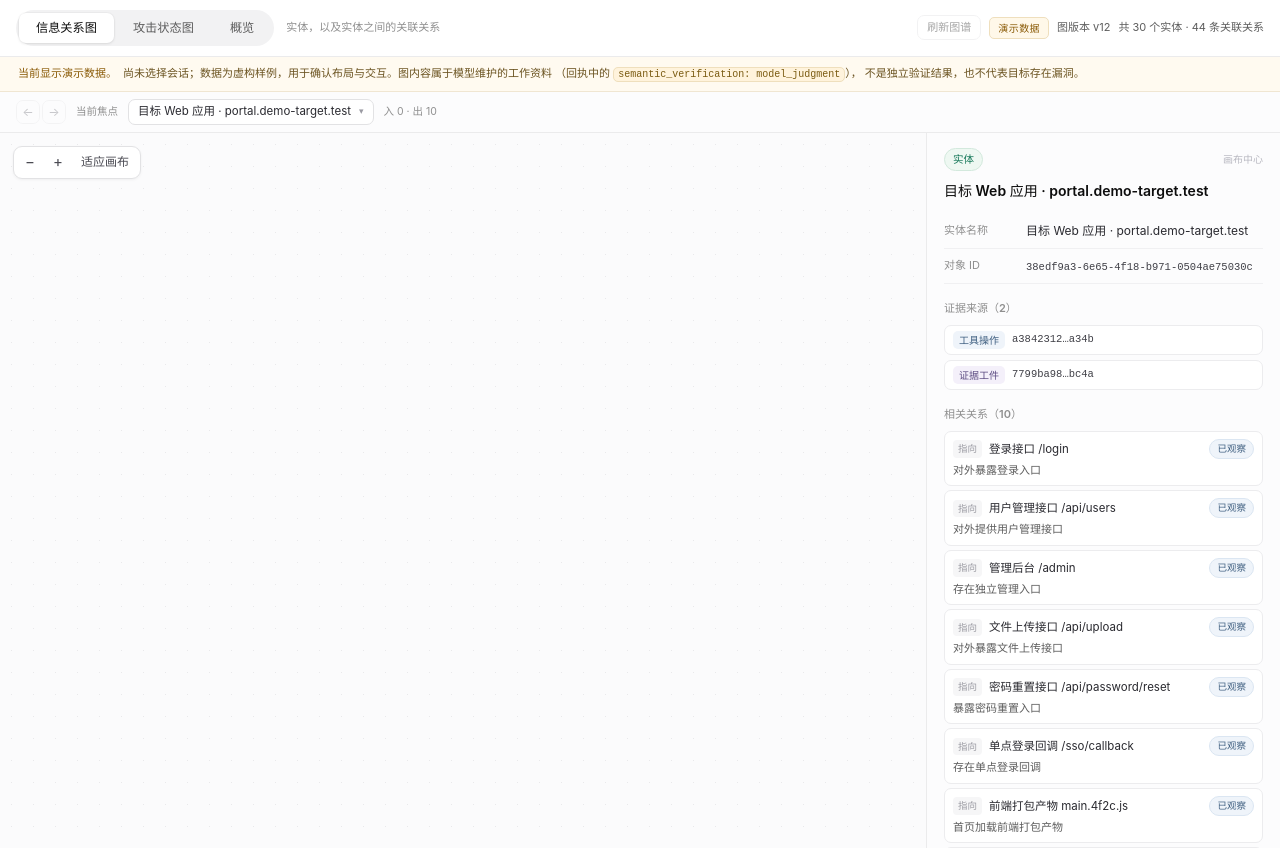
Test: 点击相关关系后选中该连线，详情切换成关系字段，并能退回焦点
Click the button with class "gpicker-btn" at [251, 112], box top-left (128, 99), bottom-right (374, 125)
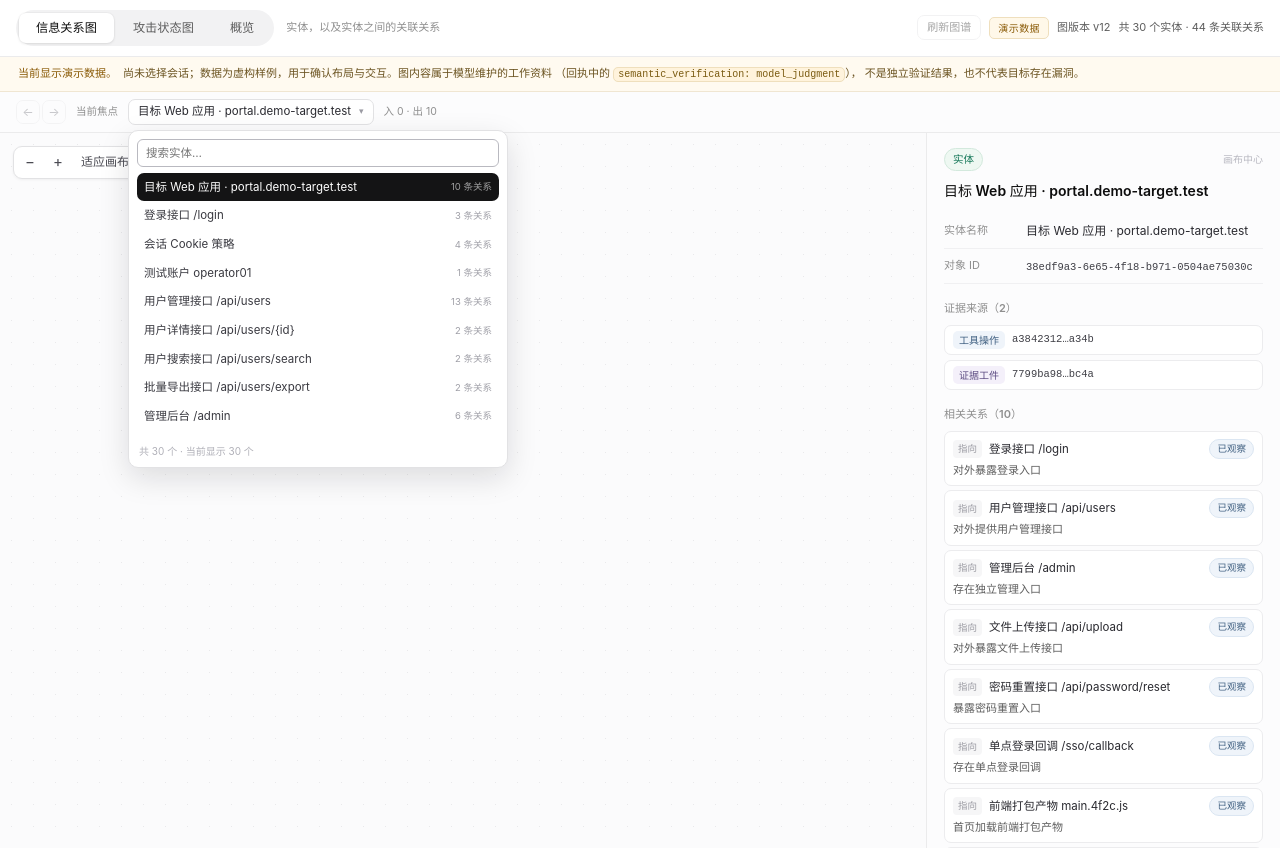
expect the dialog with class "gpicker-pop" is shown: met, box top-left (128, 130), bottom-right (508, 468)
expect the button with class "gpicker-item" showing "会话 Cookie 策略 4 条关系" is shown: met
Click the button with class "gpicker-item" showing "会话 Cookie 策略 4 条关系" at [189, 244], box top-left (137, 230), bottom-right (499, 259)
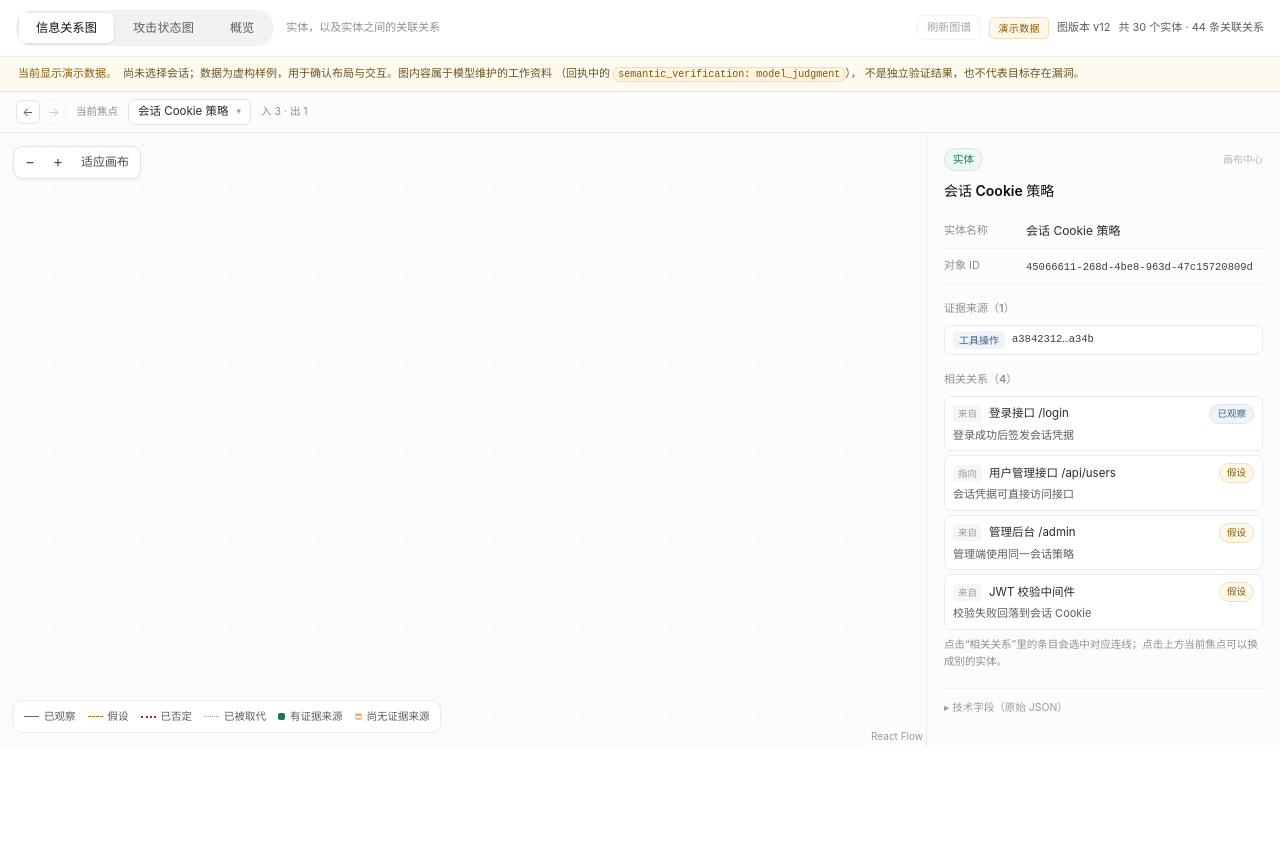
expect the element with class "gside" is shown: met, box top-left (926, 133), bottom-right (1279, 746)
expect the button "指向 用户管理接口 /api/users 假设 会话凭据可直接访问接口" is shown: met
Click the button "指向 用户管理接口 /api/users 假设 会话凭据可直接访问接口" at [1052, 473], box top-left (944, 455), bottom-right (1263, 511)
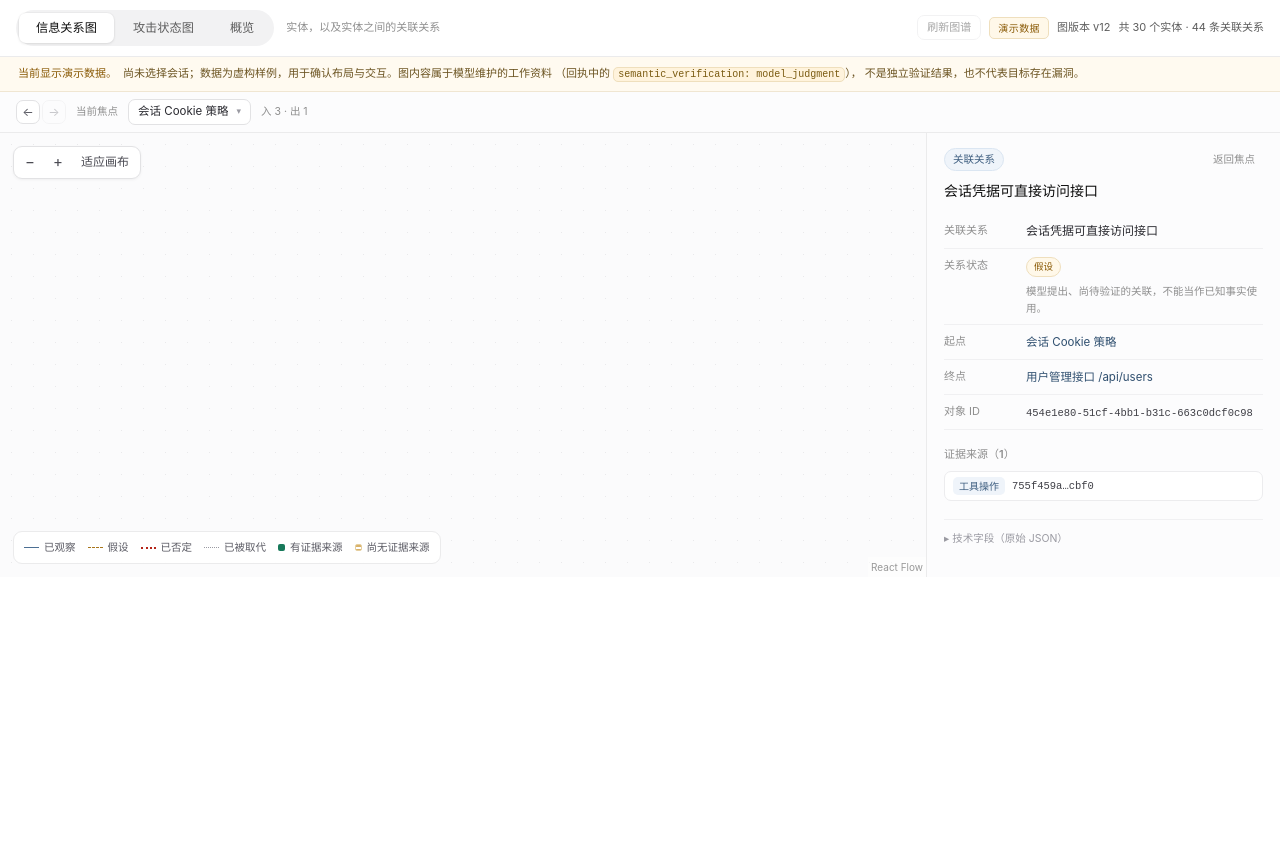
expect the text "假设" is shown: met, box top-left (1026, 257), bottom-right (1061, 277)
expect the text "模型提出、尚待验证的关联，不能当作已知事实使用。" is shown: met, box top-left (1026, 283), bottom-right (1263, 317)
Click the button "返回焦点" at [1234, 159], box top-left (1205, 149), bottom-right (1263, 170)
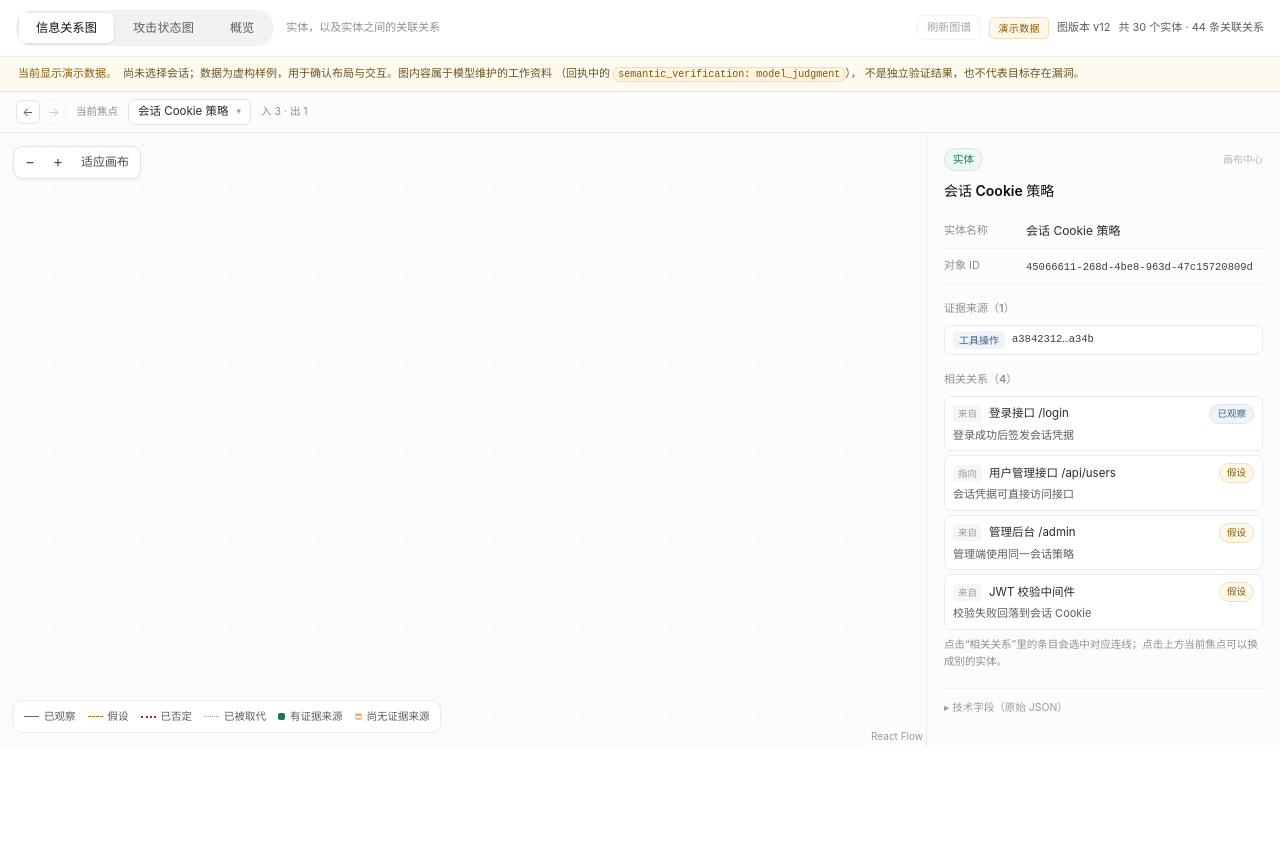
expect the text "实体名称" is shown: met, box top-left (944, 223), bottom-right (988, 237)
